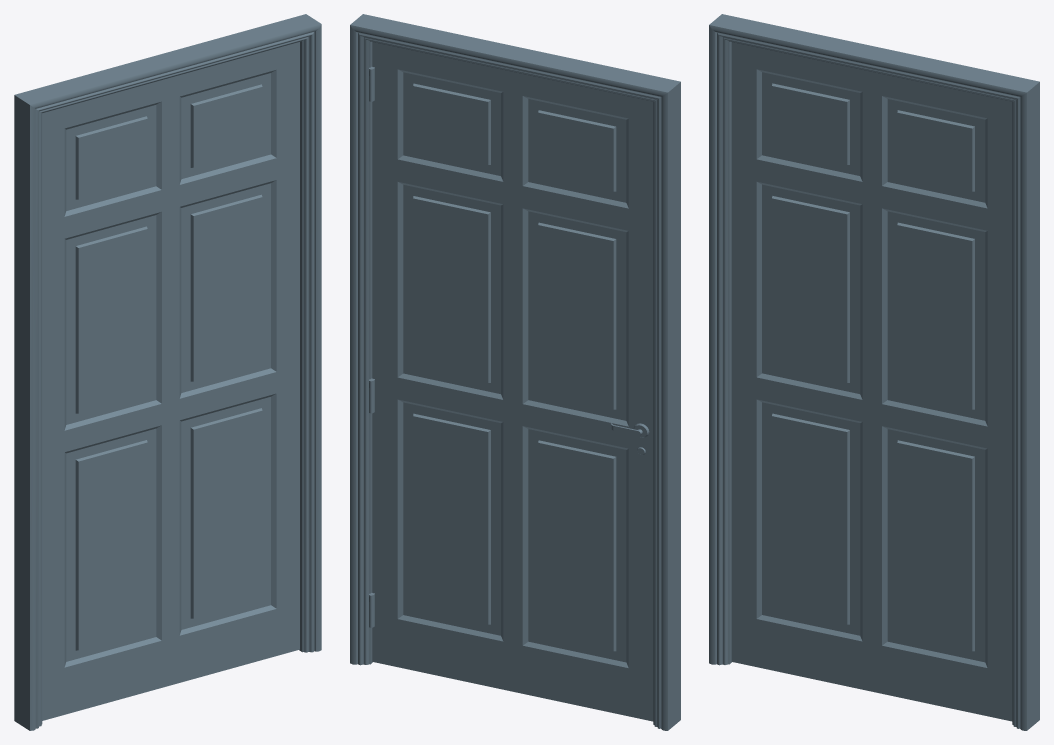
The model's file is retrete.gltf.
3 renders of one model, left to right at view 1: azimuth 30°, elevation 25°; view 2: azimuth 150°, elevation 25°; view 3: azimuth 330°, elevation 25°, orthographic.
Parts seen in each view (by area): view 1: 10057_wooden_door_v3_iterations-2; view 2: 10057_wooden_door_v3_iterations-2; view 3: 10057_wooden_door_v3_iterations-2.
Part boxes in pixels (box(x1,y1,x2,y2)): 10057_wooden_door_v3_iterations-2: box(14, 14, 321, 730); 10057_wooden_door_v3_iterations-2: box(350, 14, 680, 730); 10057_wooden_door_v3_iterations-2: box(709, 14, 1039, 730).
Bounding box in the file's own units: 5.15 × 10.15 × 0.7429.
